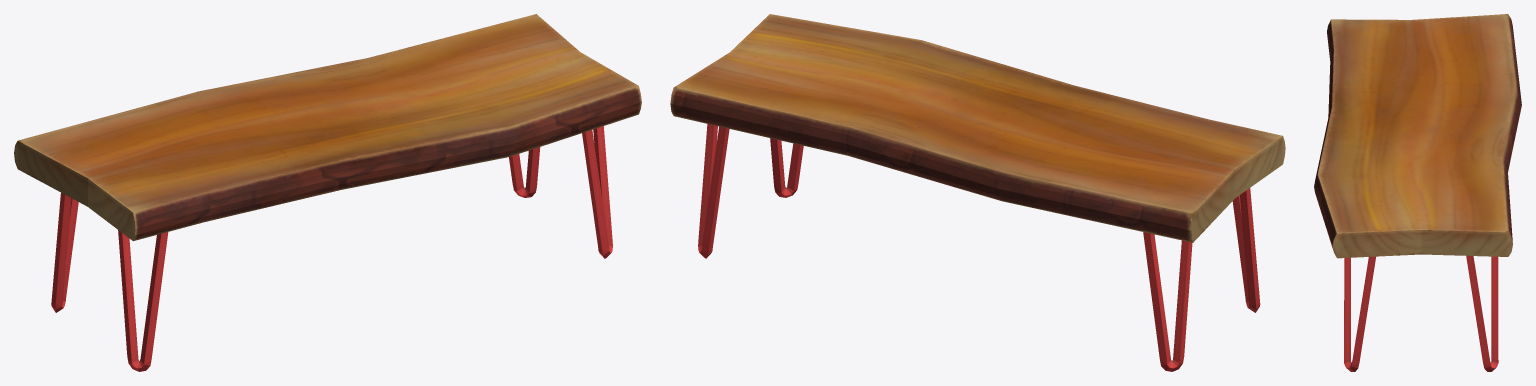
File: P_BeachChair_005_S1_M03.obj
3 views of the same model, side by side, from view 1: azimuth 30°, elevation 25°; view 2: azimuth 150°, elevation 25°; view 3: azimuth 270°, elevation 25° (orthographic). The views are drawn at different scales.
Bounding box in the file's own units: 1.91 × 0.601 × 0.7634.
1 material, 1 textured.
